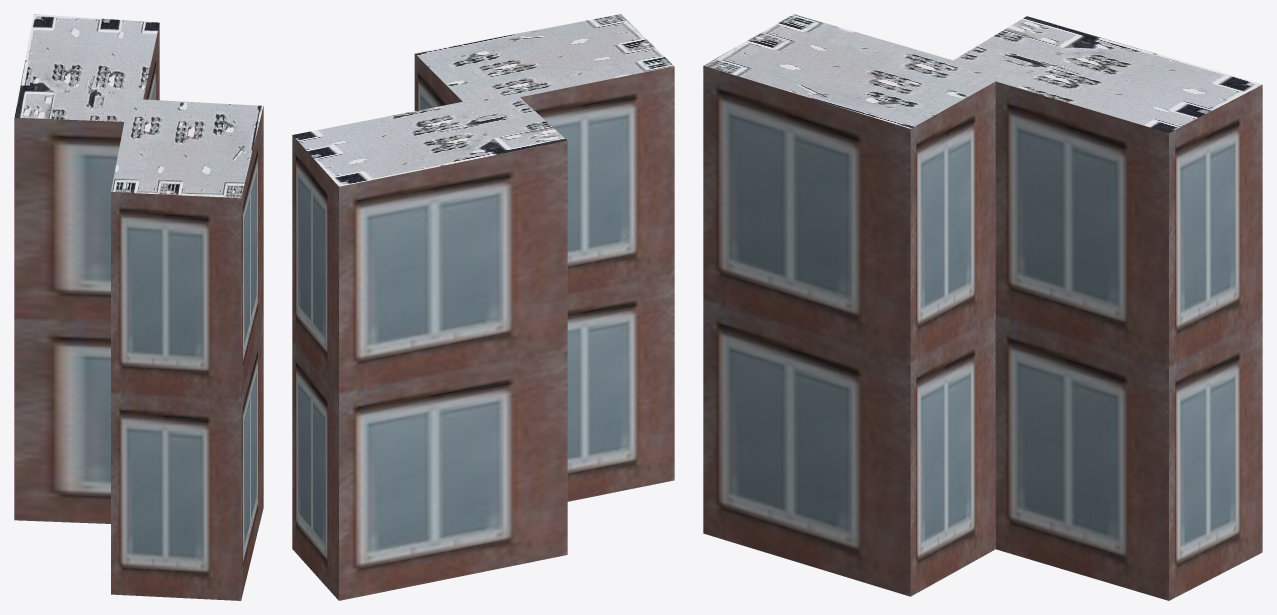
The model's file is ResTex__278.fbx.
3 views of the same model, side by side, from view 1: azimuth 30°, elevation 25°; view 2: azimuth 150°, elevation 25°; view 3: azimuth 270°, elevation 25° (orthographic). The views are drawn at different scales.
Parts seen in each view (by area): view 1: CityEngineMaterial_19_m, CityEngineMaterial_15_m; view 2: CityEngineMaterial_19_m, CityEngineMaterial_15_m; view 3: CityEngineMaterial_19_m, CityEngineMaterial_15_m.
Part boxes in pixels (bbox=[...]): CityEngineMaterial_19_m: bbox=[14, 24, 263, 600]; CityEngineMaterial_15_m: bbox=[14, 14, 263, 198]; CityEngineMaterial_19_m: bbox=[292, 53, 674, 600]; CityEngineMaterial_15_m: bbox=[293, 14, 673, 186]; CityEngineMaterial_19_m: bbox=[703, 65, 1262, 600]; CityEngineMaterial_15_m: bbox=[704, 14, 1262, 132].
Bounding box in the file's own units: 3.28 × 6 × 6.5.
2 materials, 2 textured.
